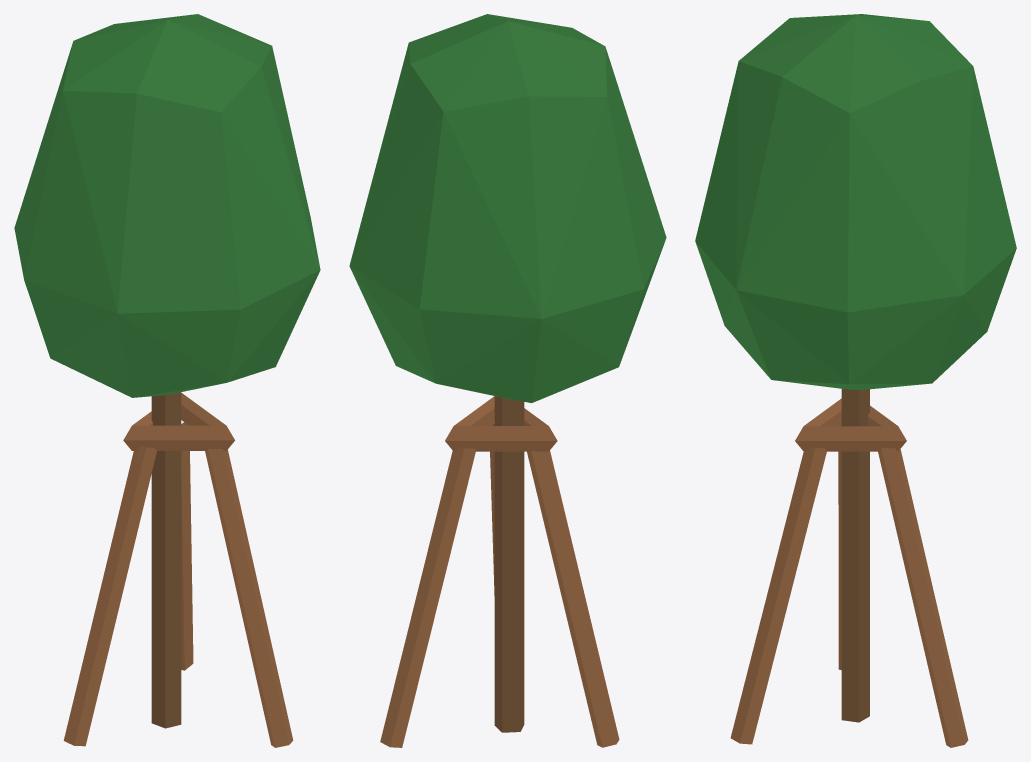
Rendered from tree-little.glb.
3 renders of one model, left to right at view 1: azimuth 30°, elevation 25°; view 2: azimuth 150°, elevation 25°; view 3: azimuth 270°, elevation 25°, orthographic.
Parts seen in each view (by area): view 1: tree-little; view 2: tree-little; view 3: tree-little.
Part boxes in pixels (x1,y1,x2,y2): tree-little: (14, 14, 320, 747); tree-little: (349, 14, 666, 747); tree-little: (695, 14, 1016, 747).
Size of the model in its own units: 1.11 by 2.67 by 1.11.
1 material, 1 textured.
